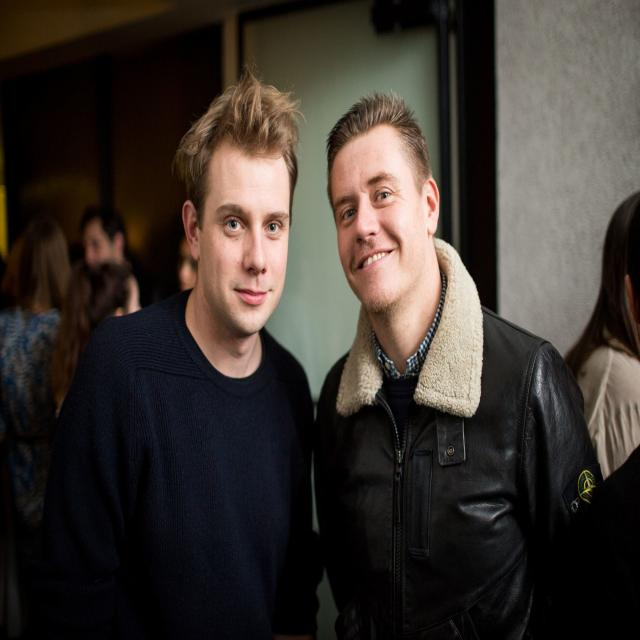body: (308, 86, 620, 640), (52, 65, 316, 640), (0, 211, 74, 640), (515, 447, 640, 640), (561, 191, 640, 483), (51, 258, 144, 402), (78, 208, 131, 270)
